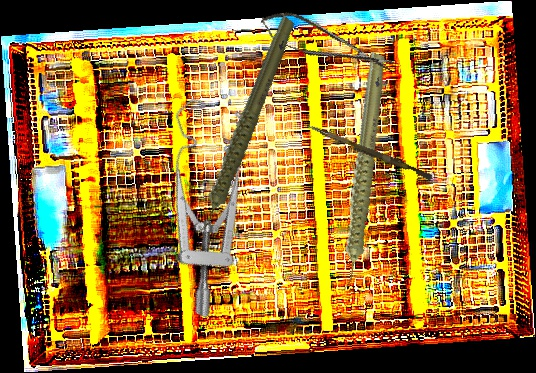Handpiece: (147, 13, 337, 239), (285, 50, 435, 295)
Micro Scissor: (255, 2, 399, 87)
Pusher: (301, 122, 435, 181)
Speculum: (100, 87, 297, 320)
